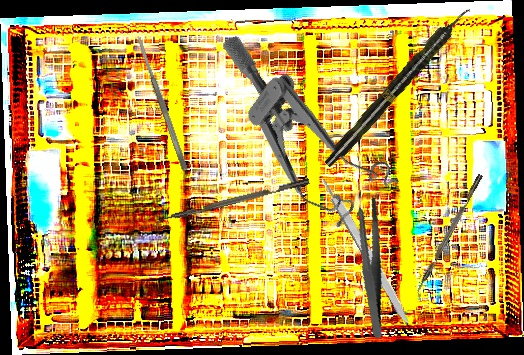Chopper: (411, 173, 489, 302), (152, 178, 312, 231)
Dressing Forceps: (334, 194, 409, 340)
Handpiece: (320, 2, 476, 171)
Scalpel Handle: (319, 174, 416, 330)
Spatula Surgical: (134, 33, 190, 173)
Speculum: (174, 31, 414, 243)
